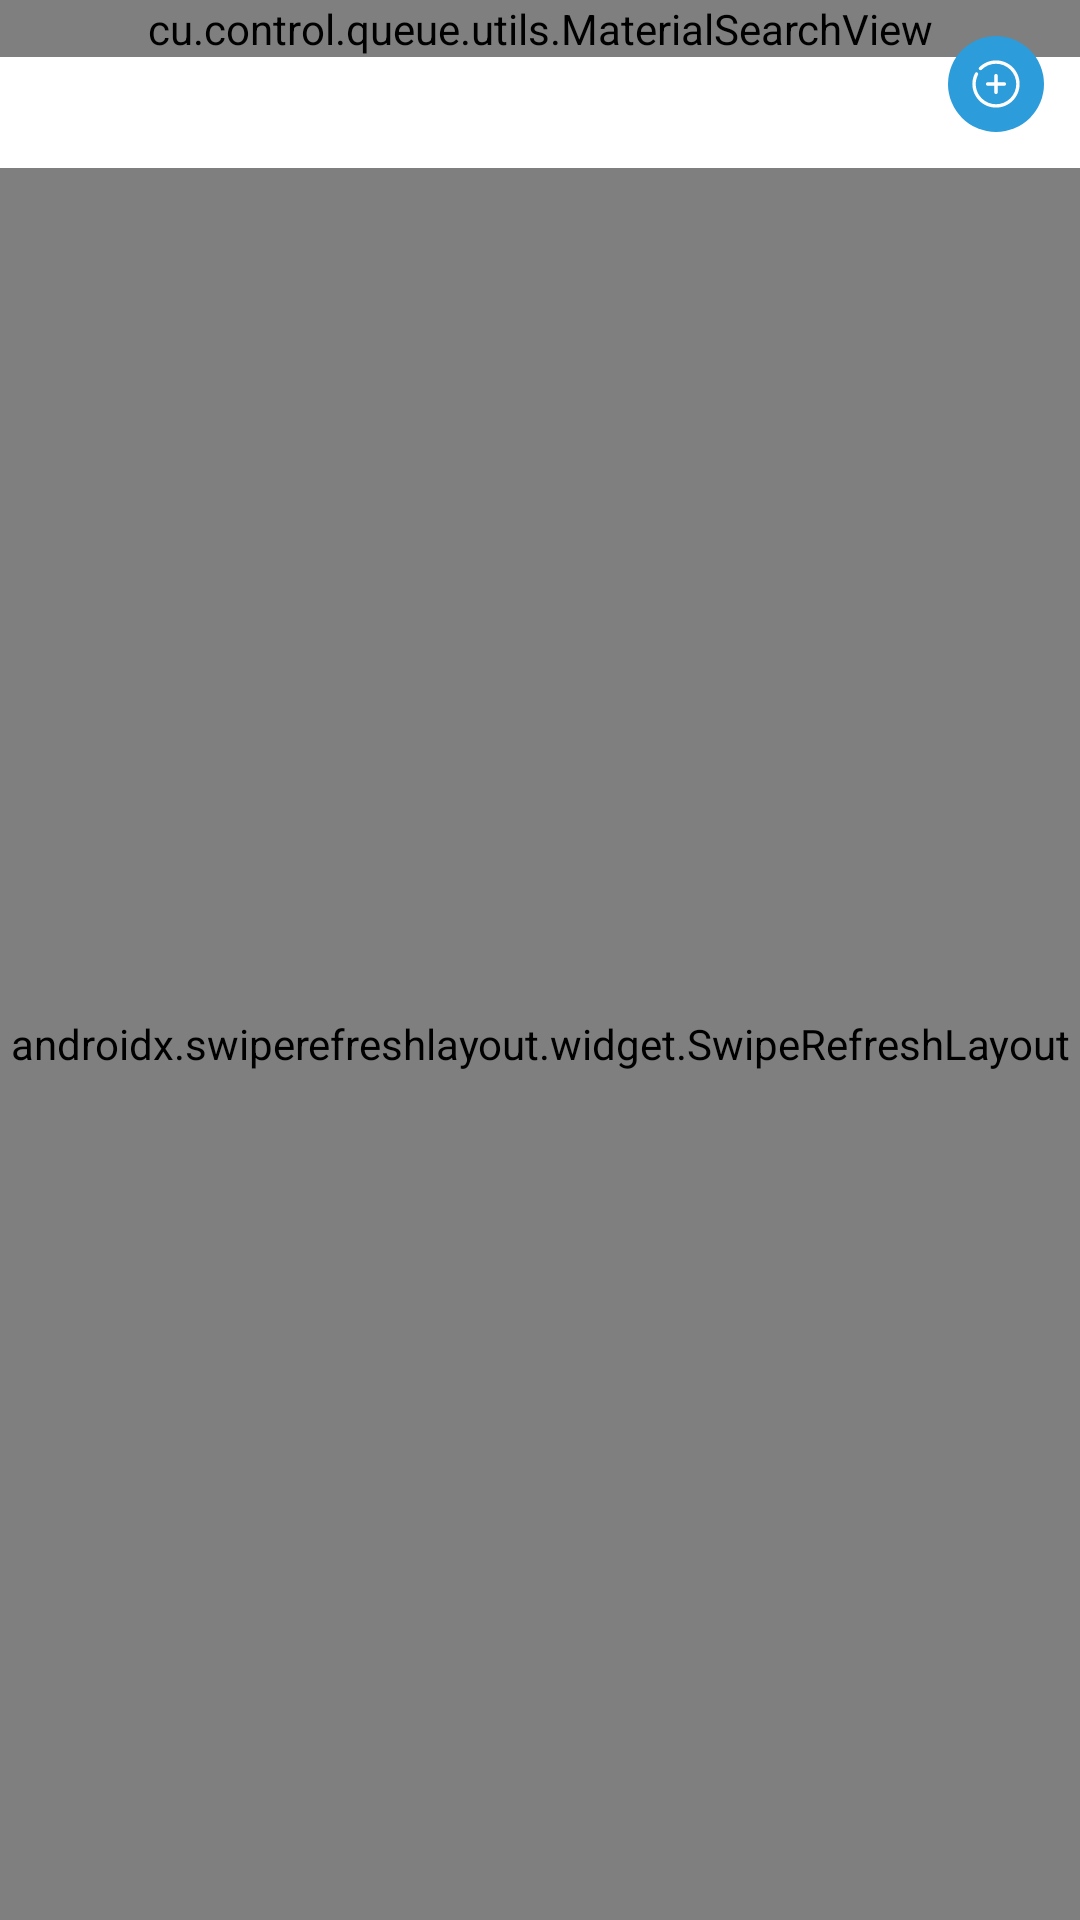

Named icons in this screenshot (1080 x 1920) and their bounding boxes, box(x1, y1, x2, y2):
add queue: box(948, 36, 1044, 132)
